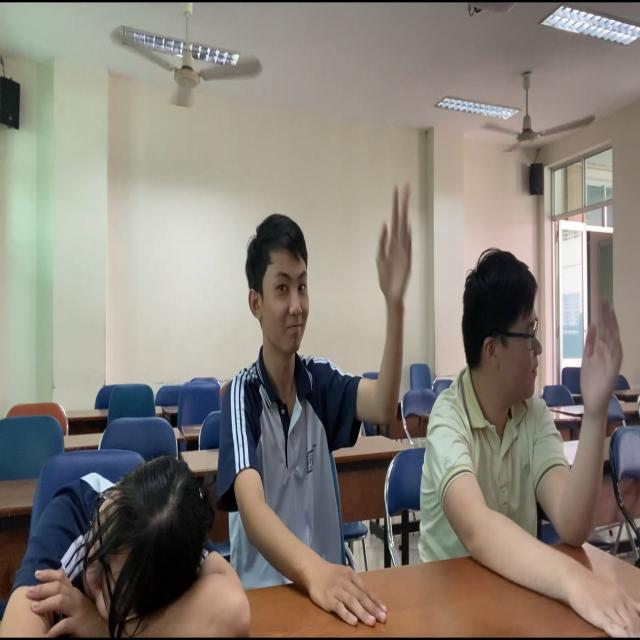raise_hand: (227, 180, 415, 613), (434, 252, 624, 601), (5, 451, 245, 640)
